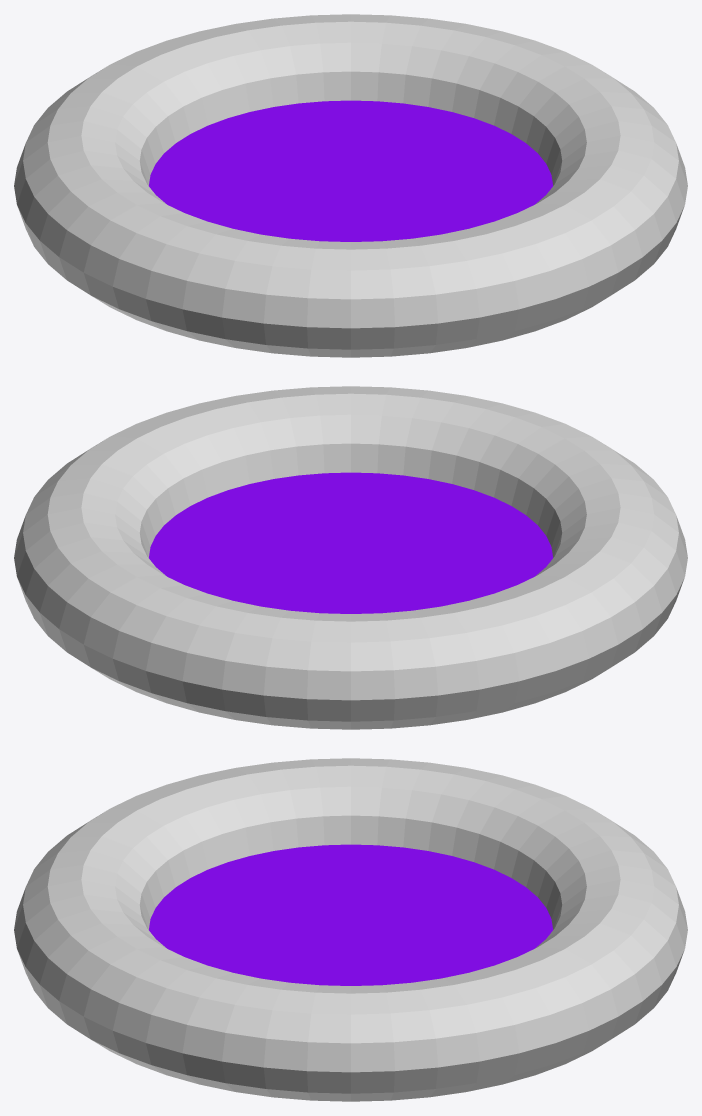
File: PurpleGunPlatform.fbx
The picture shows the model from 3 angles, top to bottom: view 1: azimuth 30°, elevation 25°; view 2: azimuth 150°, elevation 25°; view 3: azimuth 270°, elevation 25°; orthographic projection.
Parts seen in each view (by area): view 1: Torus, Plane; view 2: Torus, Plane; view 3: Torus, Plane.
Boxes of the visible parts, x1,y1,x2,y2 form: Torus: [14, 14, 687, 357]; Plane: [149, 100, 552, 241]; Torus: [14, 386, 687, 729]; Plane: [149, 472, 552, 613]; Torus: [14, 758, 687, 1101]; Plane: [149, 844, 552, 985].
Size of the model in its own units: 250 by 41.18 by 250.
